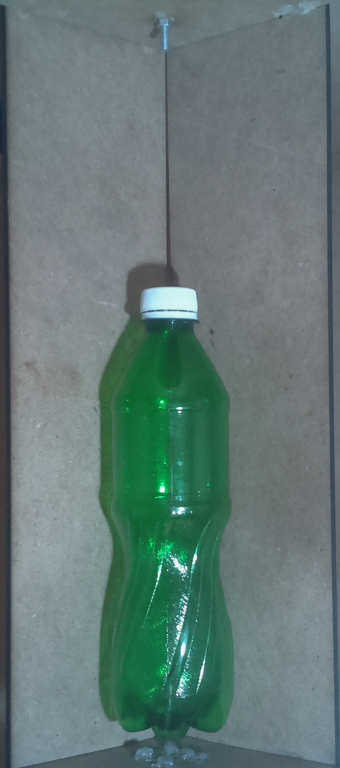Bouteille_0.5L: (97, 278, 247, 739)
